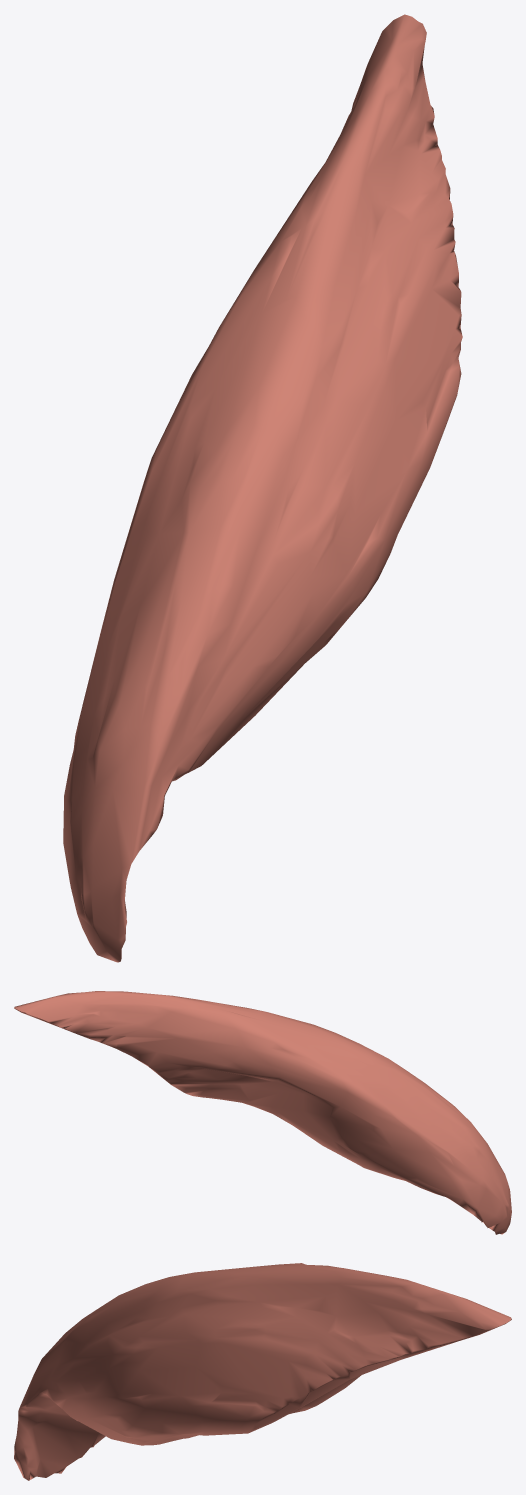
The picture shows the model from 3 angles, top to bottom: view 1: azimuth 30°, elevation 25°; view 2: azimuth 150°, elevation 25°; view 3: azimuth 270°, elevation 25°; orthographic projection. The views are drawn at different scales.
Parts seen in each view (by area): view 1: 右侧小圆肌; view 2: 右侧小圆肌; view 3: 右侧小圆肌.
Part boxes in pixels (bbox=[...]): 右侧小圆肌: bbox=[63, 14, 462, 962]; 右侧小圆肌: bbox=[14, 991, 511, 1234]; 右侧小圆肌: bbox=[14, 1263, 511, 1480].
Size of the model in its own units: 0.1416 by 0.1118 by 0.1319.
